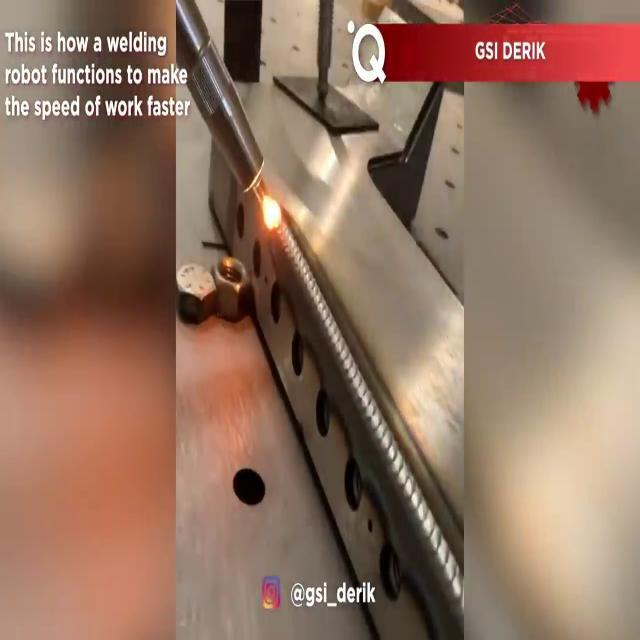Good Welding: (262, 220, 466, 629)
